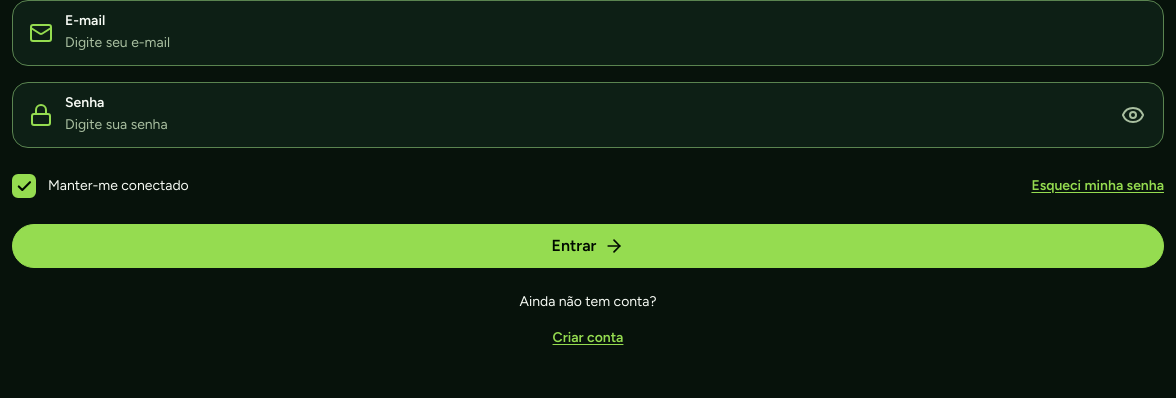
it: EntrarForm › o aviso vermelho (E-mail, {"tipo":"credenciais"}) some ao editar o campo
Type "ana@exemplo.com" into the field labelled "E-mail".
click(606, 43); type("ana@exemplo.com")  # box x1=65 y1=31 x2=1147 y2=55
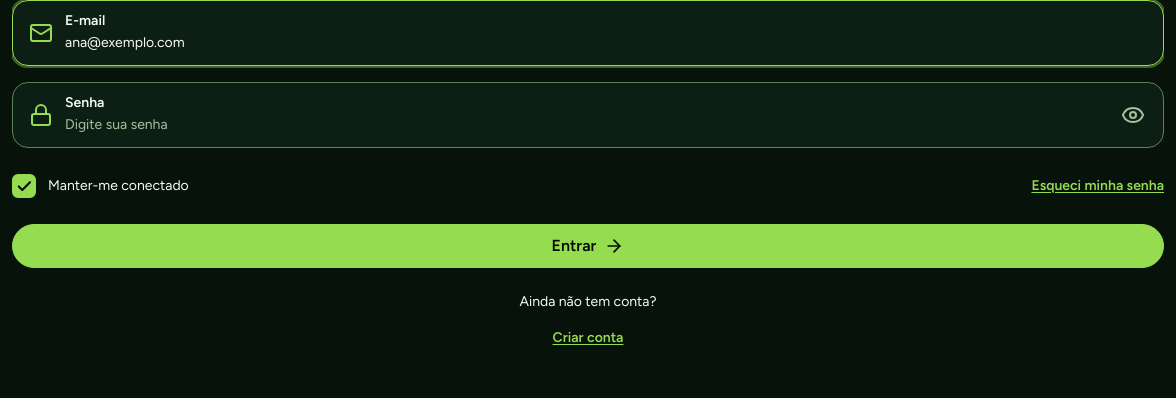
Type "qualquer" into the password field labelled "Senha".
click(582, 125); type("qualquer")  # box x1=65 y1=113 x2=1099 y2=137
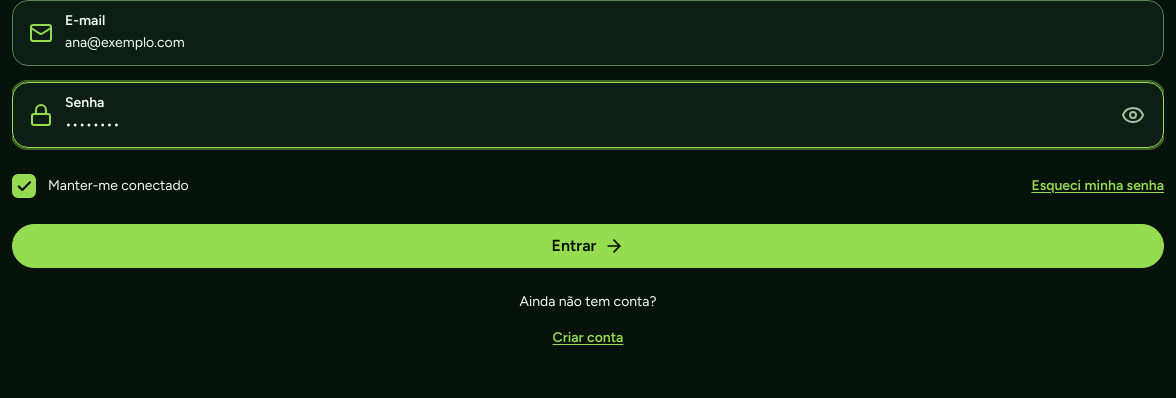
Click the button "Entrar".
click(588, 246)  # box x1=12 y1=224 x2=1164 y2=268
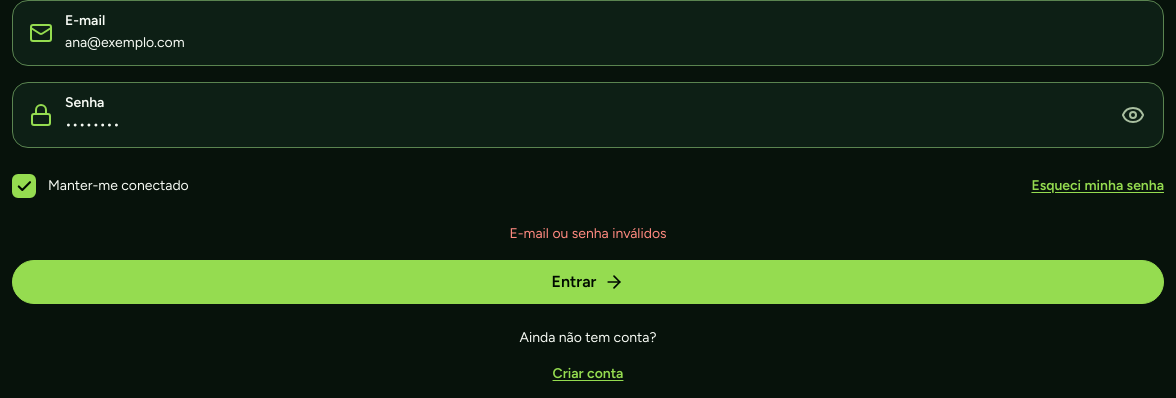
Expected: the message "E-mail ou senha inválidos" is shown, x1=509 y1=225 x2=666 y2=242
Type "x" into the field labelled "E-mail".
click(606, 43); type("x")  # box x1=65 y1=31 x2=1147 y2=55
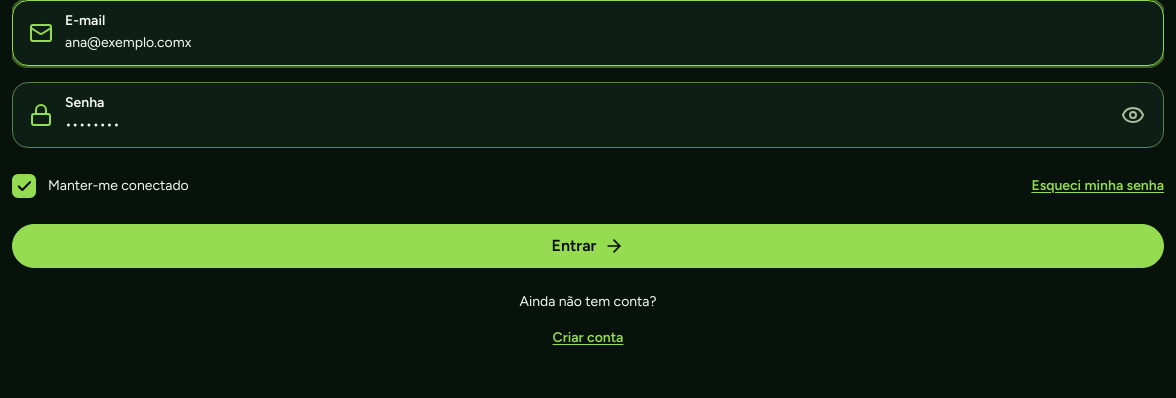
Expected: the message "E-mail ou senha inválidos" is gone
